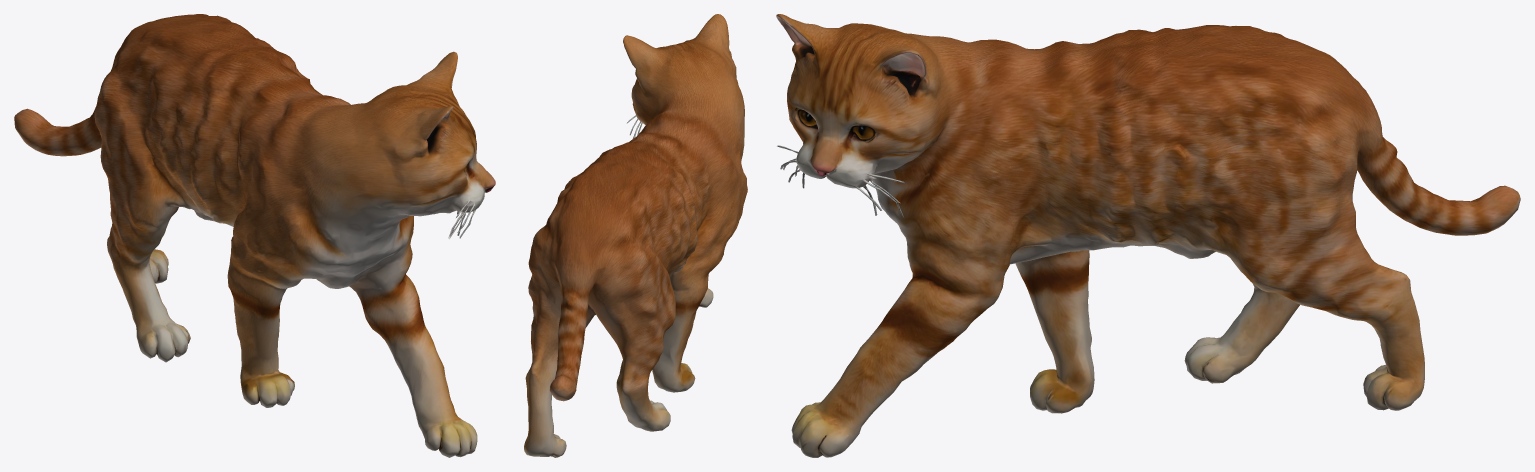
File: cat-walking.glb
3 renders of one model, left to right at view 1: azimuth 30°, elevation 25°; view 2: azimuth 150°, elevation 25°; view 3: azimuth 270°, elevation 25°, orthographic. The views are drawn at different scales.
Visible parts, largest first — view 1: tripo_node_eaa82c6c-8723-4358-aca6-405aa6dfae37; view 2: tripo_node_eaa82c6c-8723-4358-aca6-405aa6dfae37; view 3: tripo_node_eaa82c6c-8723-4358-aca6-405aa6dfae37.
Part boxes in pixels (box(x1,y1,x2,y2)): tripo_node_eaa82c6c-8723-4358-aca6-405aa6dfae37: box(14, 14, 495, 457); tripo_node_eaa82c6c-8723-4358-aca6-405aa6dfae37: box(524, 14, 747, 457); tripo_node_eaa82c6c-8723-4358-aca6-405aa6dfae37: box(776, 14, 1520, 457).
Bounding box in the file's own units: 0.1401 × 0.25 × 0.3943.
Materials: 1 (1 with a texture image).
